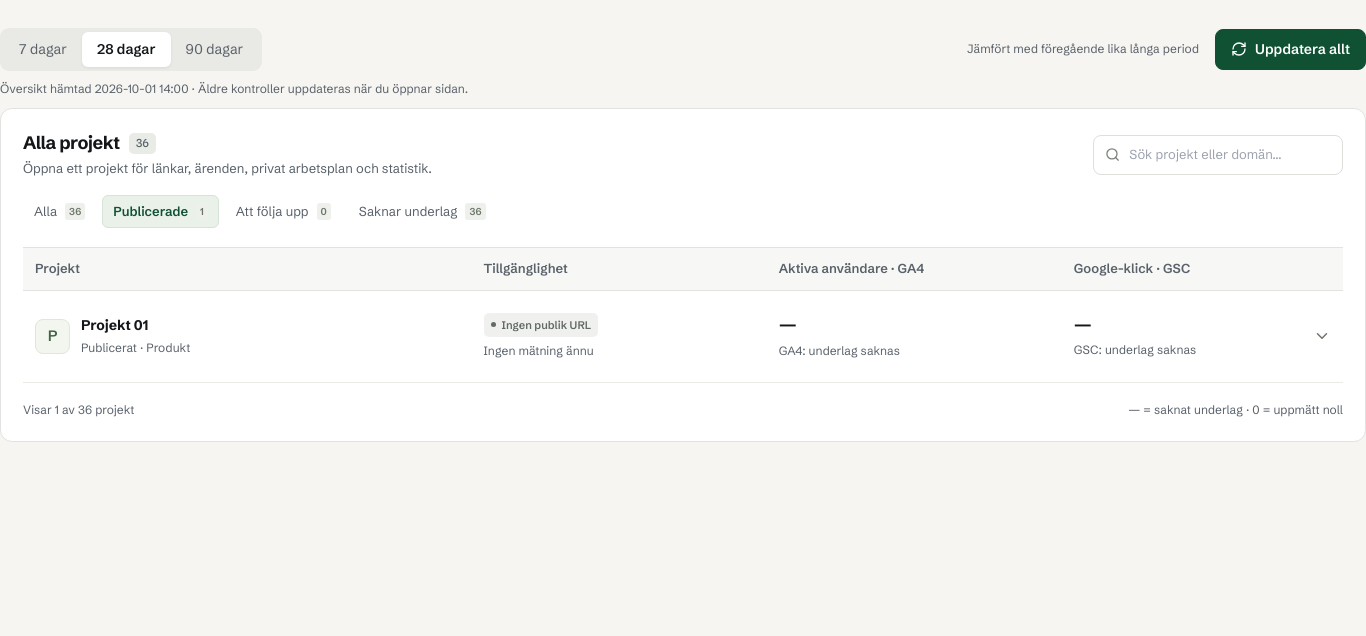
Test: daily portfolio dashboard › prioritizes published projects in management mode and saves a private project plan
Click the button that starts with "Projekt 01" at (52, 336), box [23, 291, 1343, 382]
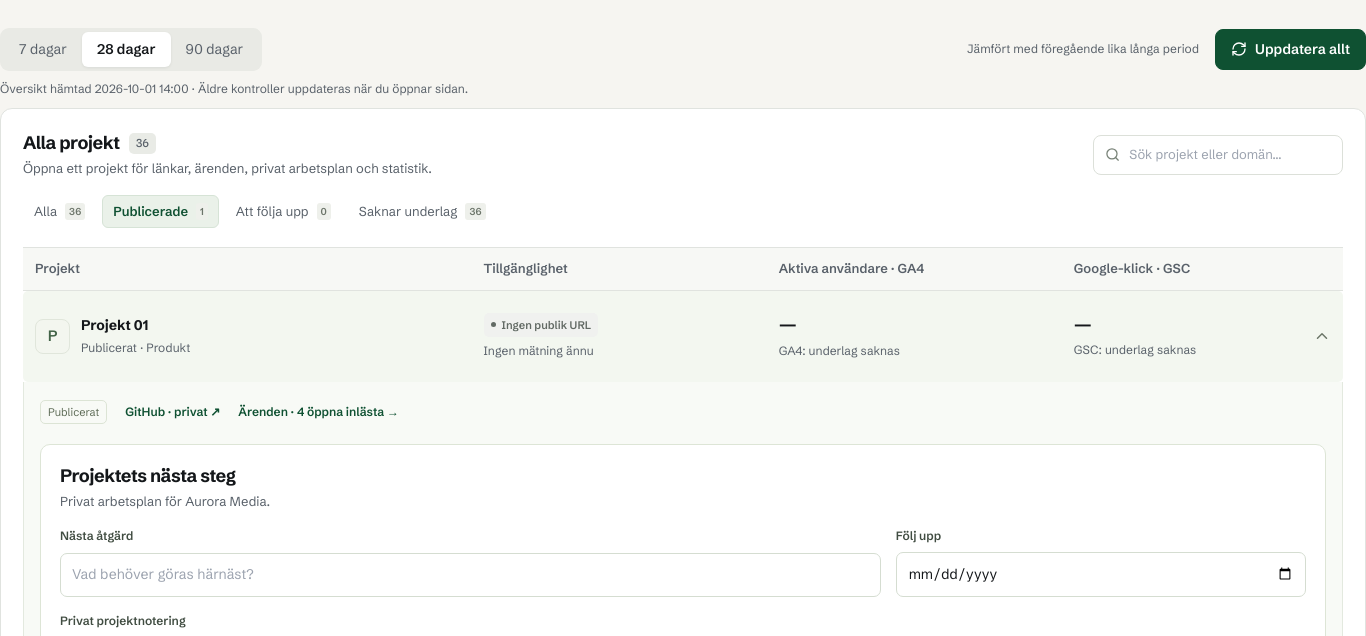
Type "Följ upp ny support" into the field labelled "Nästa åtgärd" at (470, 575), box [60, 553, 881, 597]
(page scrolled)
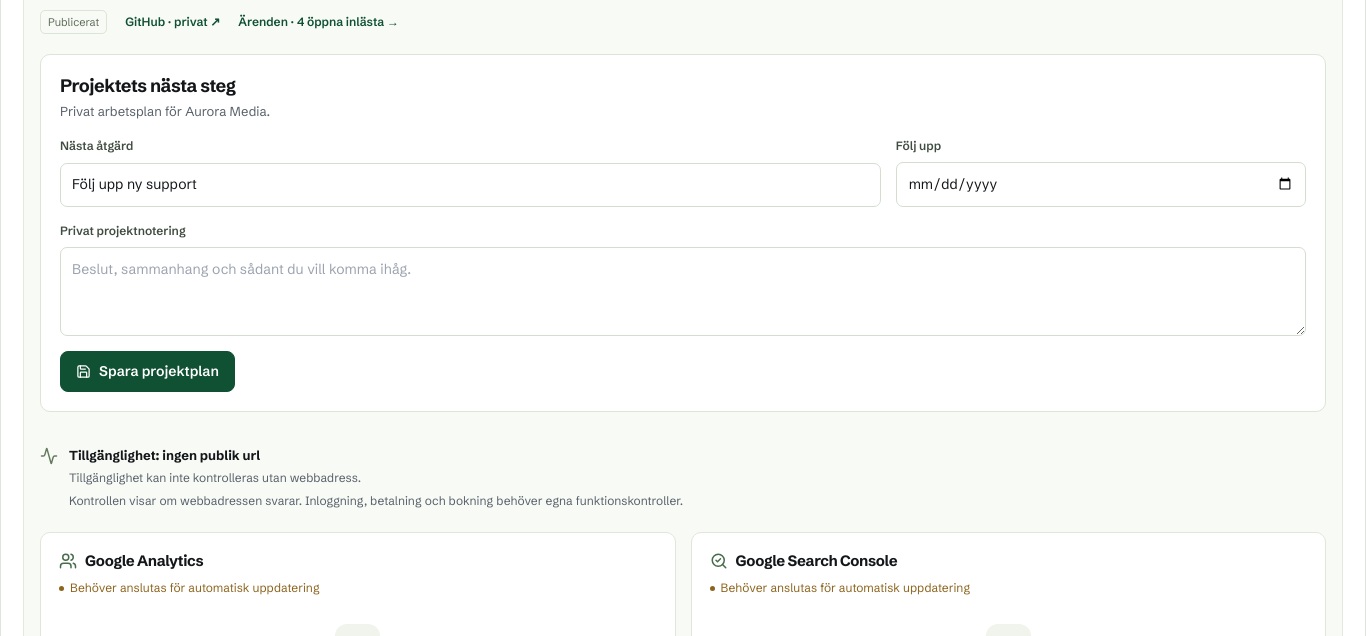
Type "Kontrollera inloggningen före nästa release." into the text box labelled "Privat projektnotering" at (683, 292), box [60, 247, 1306, 336]
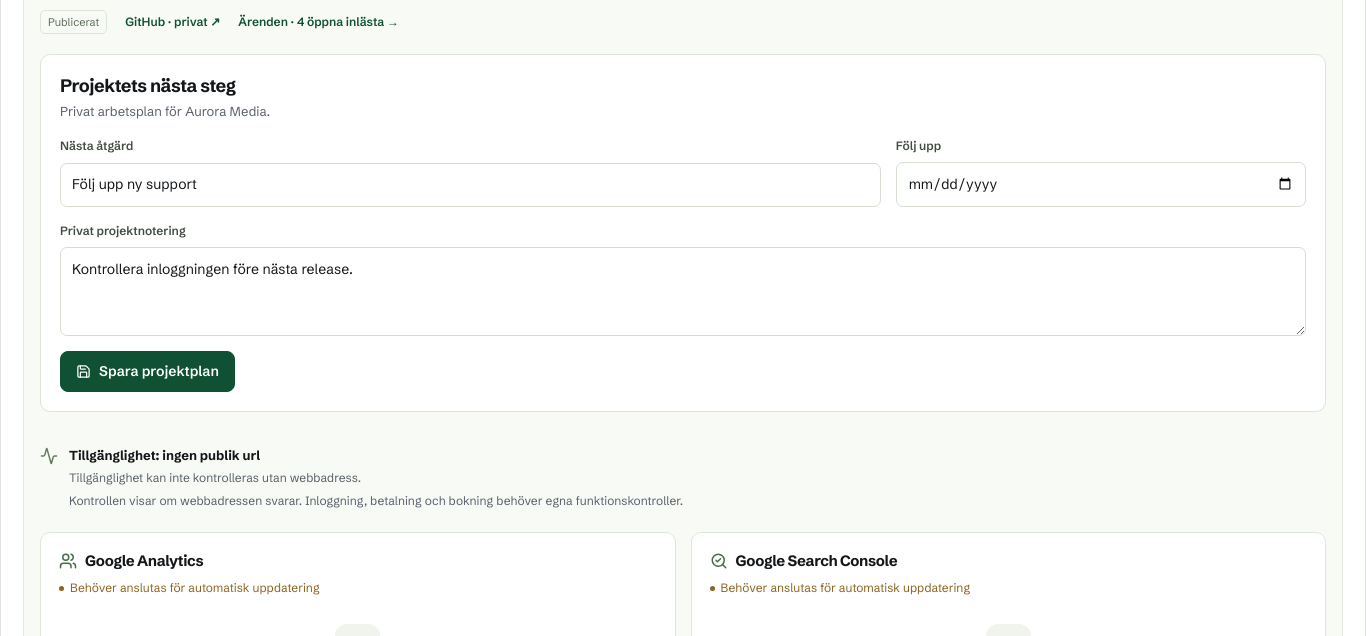
Click the button "Spara projektplan" at (147, 372), box [60, 351, 235, 392]
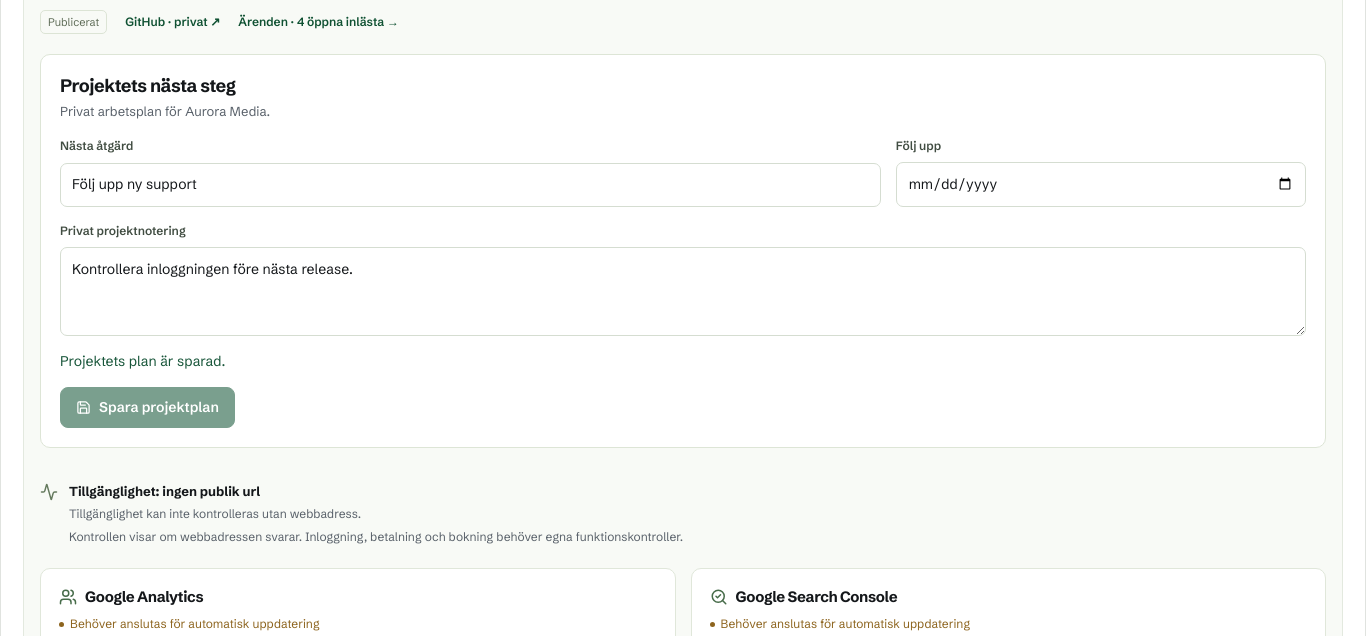
Expected: the text "Projektets plan är sparad." is shown, [60, 352, 225, 370]
